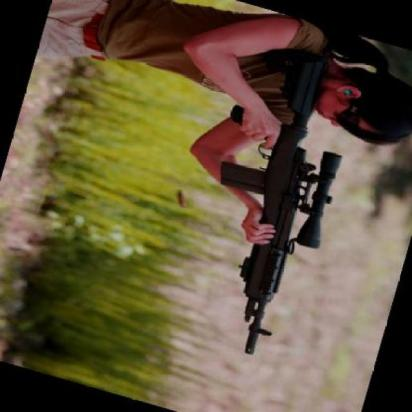Gun: (170, 35, 376, 370)
